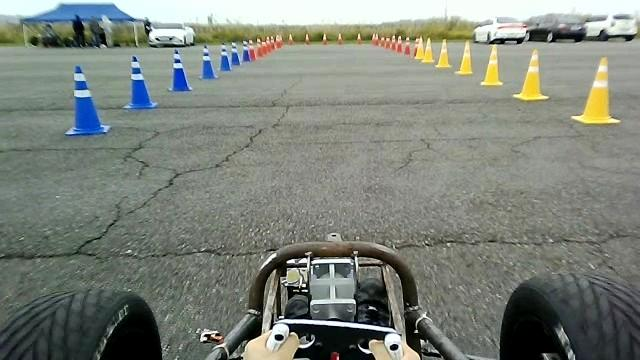blue cone: (64, 64, 109, 135), (123, 55, 157, 109), (167, 48, 192, 91), (198, 44, 218, 79), (219, 42, 231, 71), (230, 41, 240, 65), (241, 41, 251, 62)
red cone: (403, 36, 411, 55), (412, 37, 419, 58), (395, 35, 403, 52)
yellow cone: (570, 55, 620, 124), (512, 48, 548, 100), (480, 44, 503, 86), (454, 39, 473, 75), (435, 38, 451, 68), (420, 36, 435, 63)
